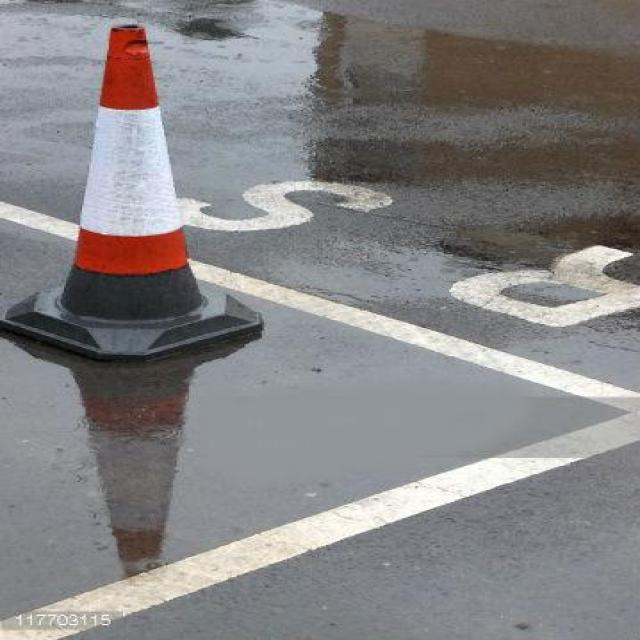Cone: (11, 23, 260, 359)
